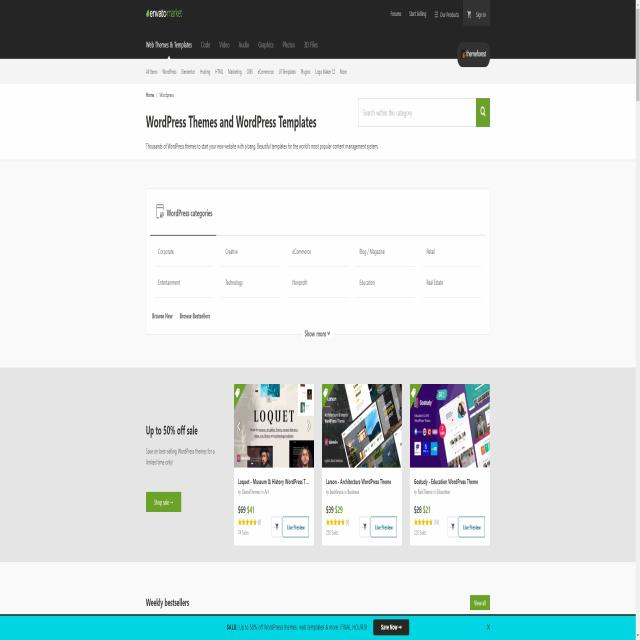menu-bar: (384, 1, 491, 26)
search: (354, 95, 494, 132)
tab-bar: (142, 62, 352, 83), (143, 36, 322, 54)
